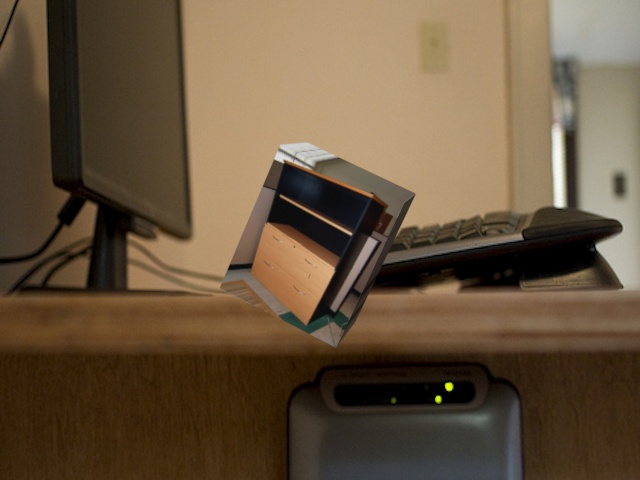file_cabinet: (209, 137, 418, 352)
